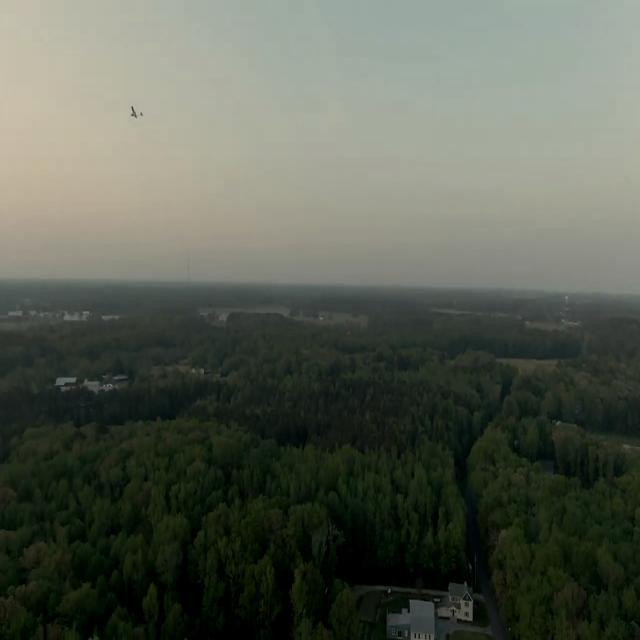iha: (120, 40, 137, 58)
